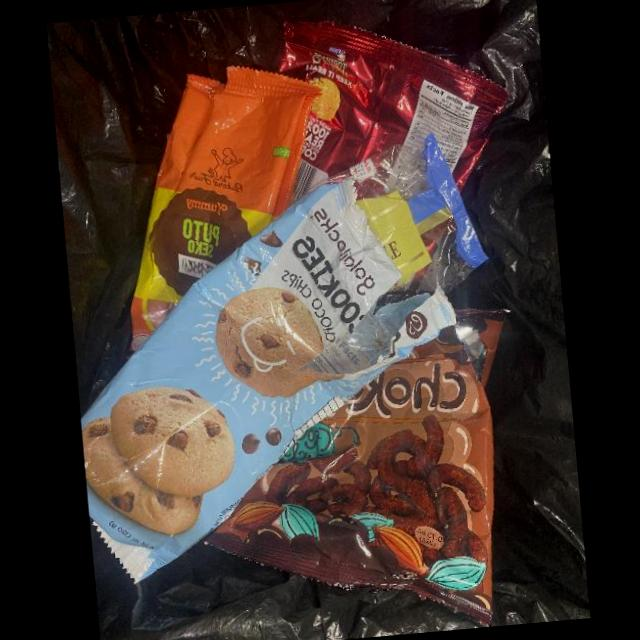bao_bi_thuc_pham: (80, 182, 457, 583), (207, 309, 506, 626), (130, 66, 321, 353), (278, 20, 508, 189), (332, 133, 488, 293)
